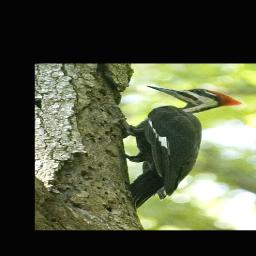Woodpecker: (120, 86, 243, 209)
